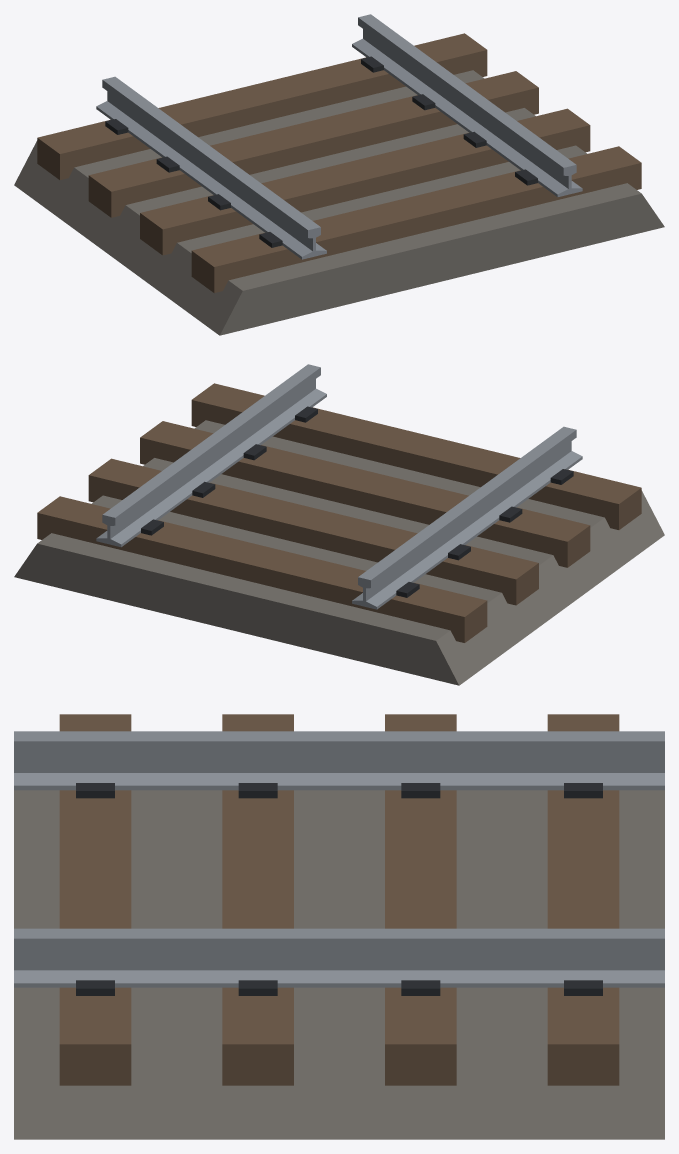
File: rail_segment.glb
3 views of the same model, one above another, from view 1: azimuth 30°, elevation 25°; view 2: azimuth 150°, elevation 25°; view 3: azimuth 270°, elevation 25° (orthographic). The views are drawn at different scales.
Visible parts, largest first — view 1: Rail_Segment_Mesh; view 2: Rail_Segment_Mesh; view 3: Rail_Segment_Mesh.
Boxes of the visible parts, x1,y1,x2,y2 form: Rail_Segment_Mesh: (14,14,664,335); Rail_Segment_Mesh: (14,364,664,685); Rail_Segment_Mesh: (14,714,664,1139).
Size of the model in its own units: 2.5 by 0.45 by 2.
